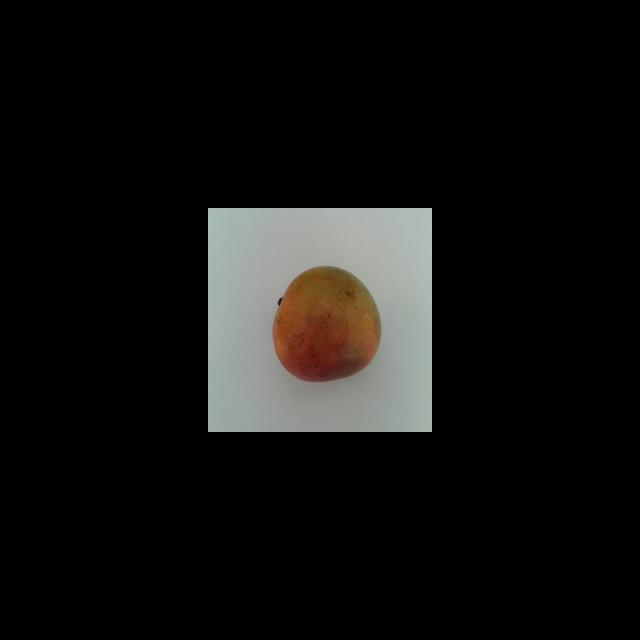Mango: (271, 265, 381, 382)
